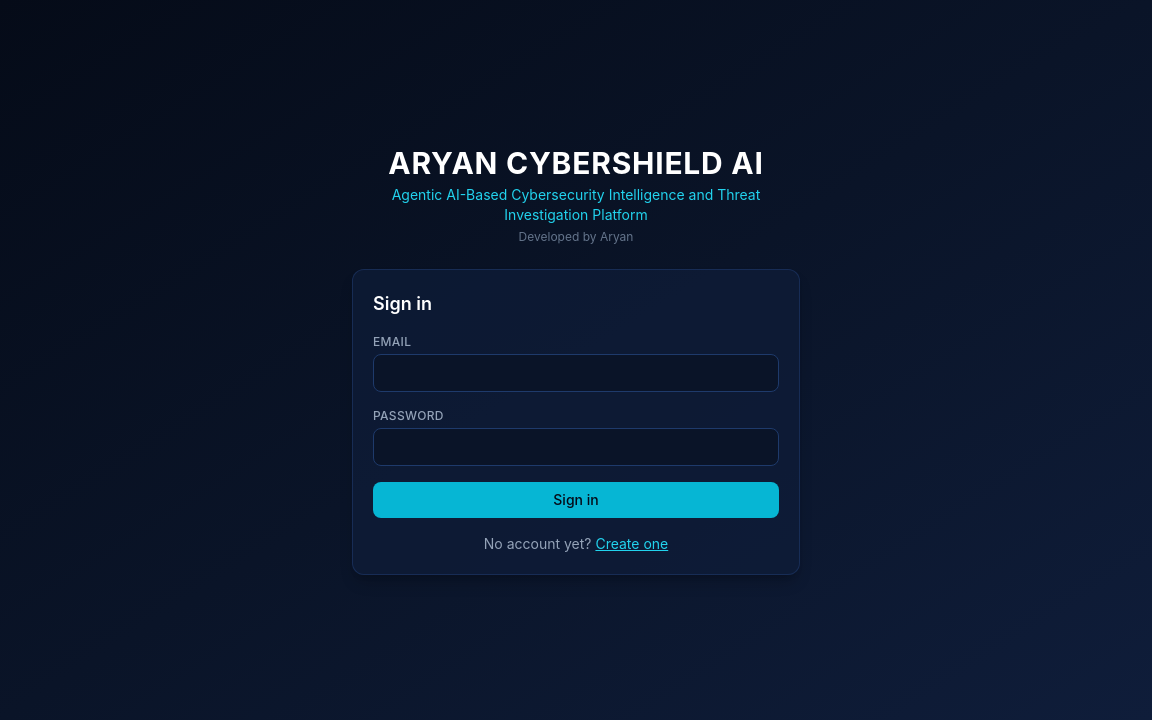
Test: Login page › displays the server error on failed login and stays logged out
In the field labelled "Email": (576, 373) x1=373 y1=354 x2=779 y2=392, type "a@b.com"
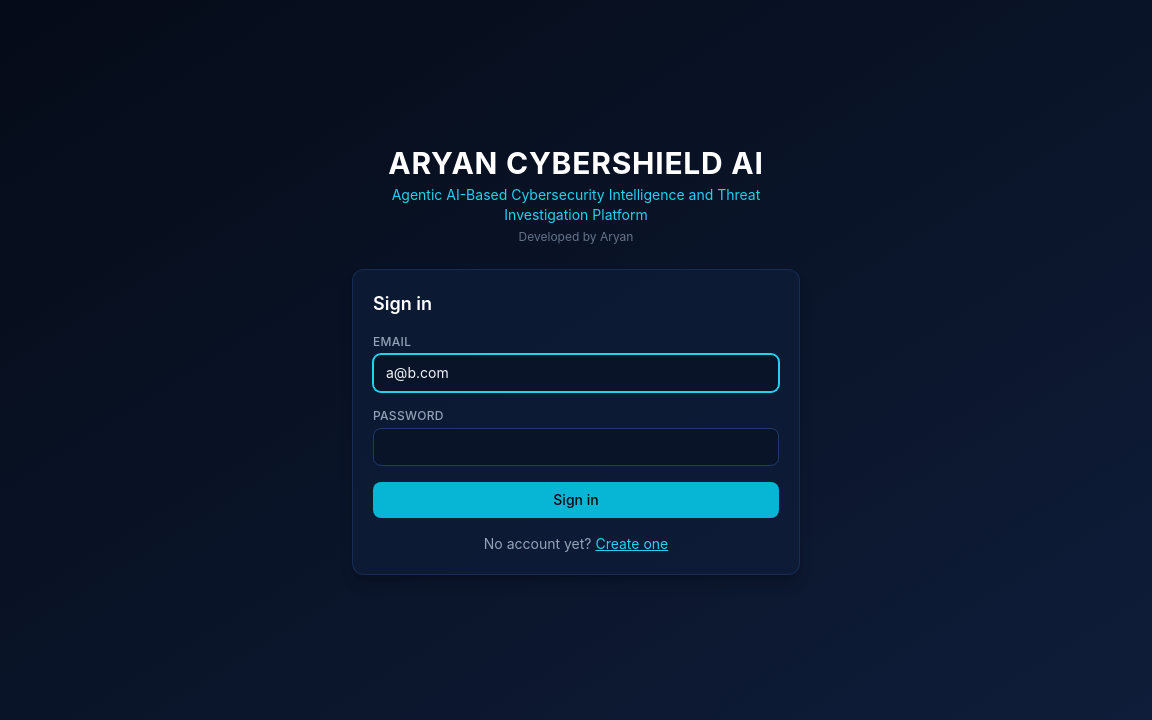
In the password field labelled "Password": (576, 447) x1=373 y1=428 x2=779 y2=466, type "wrongpassword1"
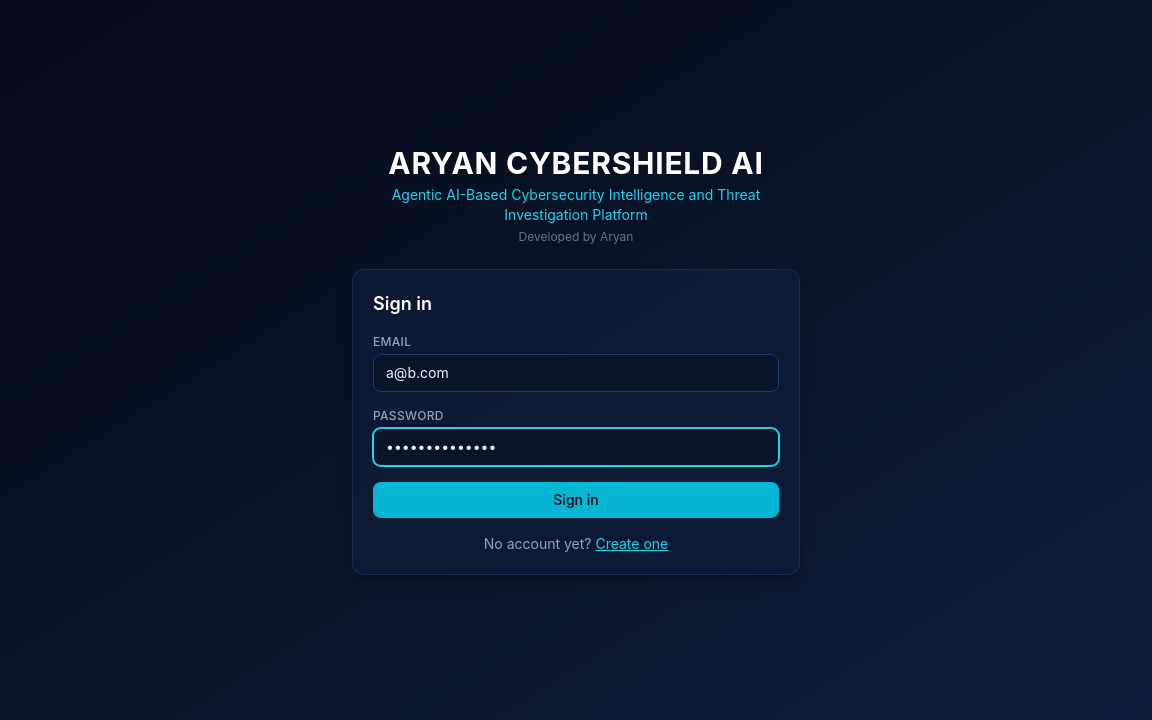
Click the button "Sign in": (576, 500) x1=373 y1=482 x2=779 y2=518
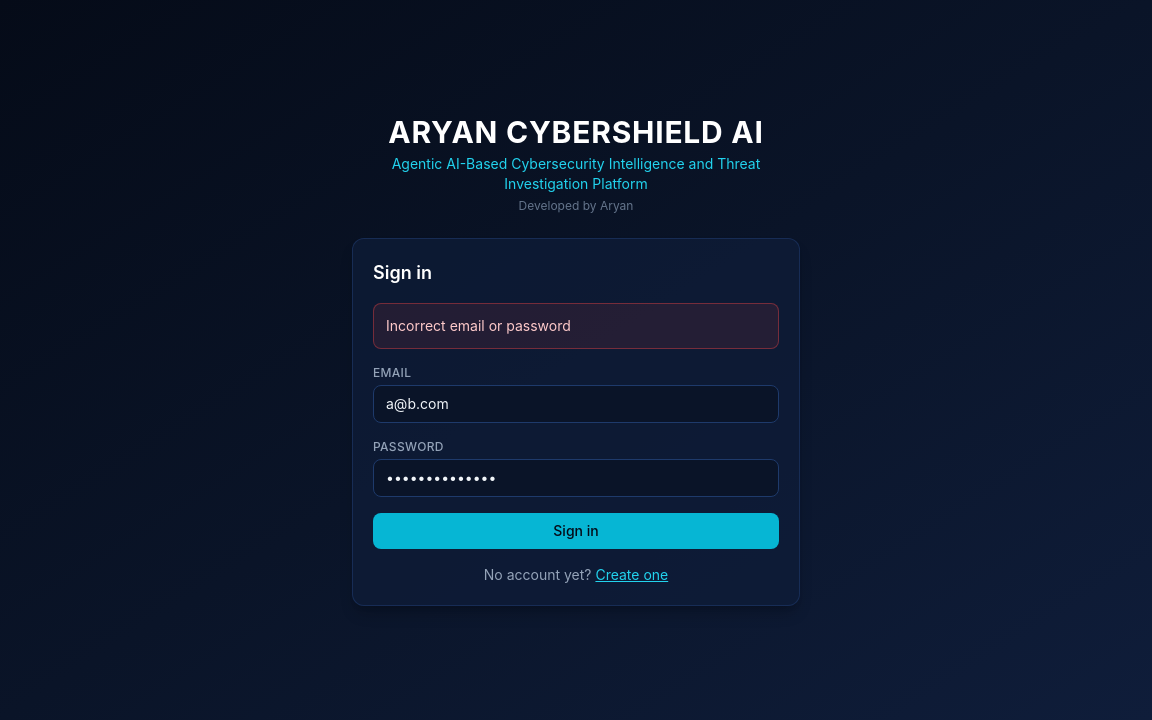
Expected: the text "Incorrect email or password" is shown, x1=386 y1=316 x2=571 y2=336
